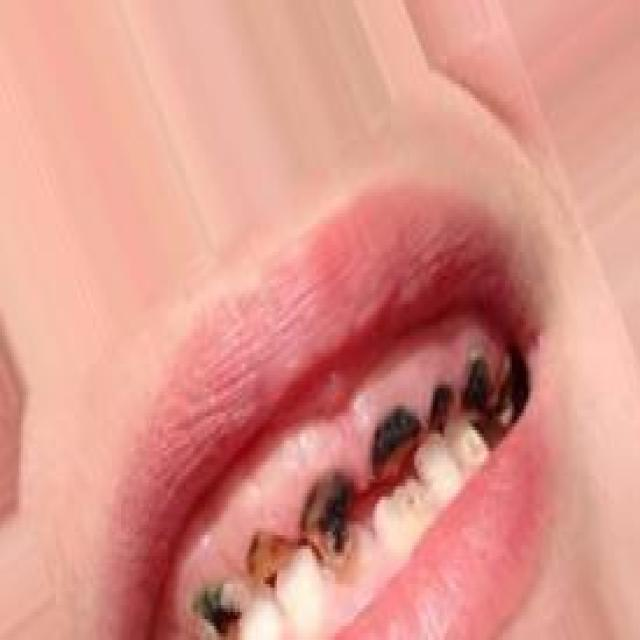caries: (364, 400, 421, 503), (302, 468, 358, 570), (236, 521, 308, 592), (458, 346, 511, 441), (190, 575, 252, 639), (419, 372, 461, 446)
